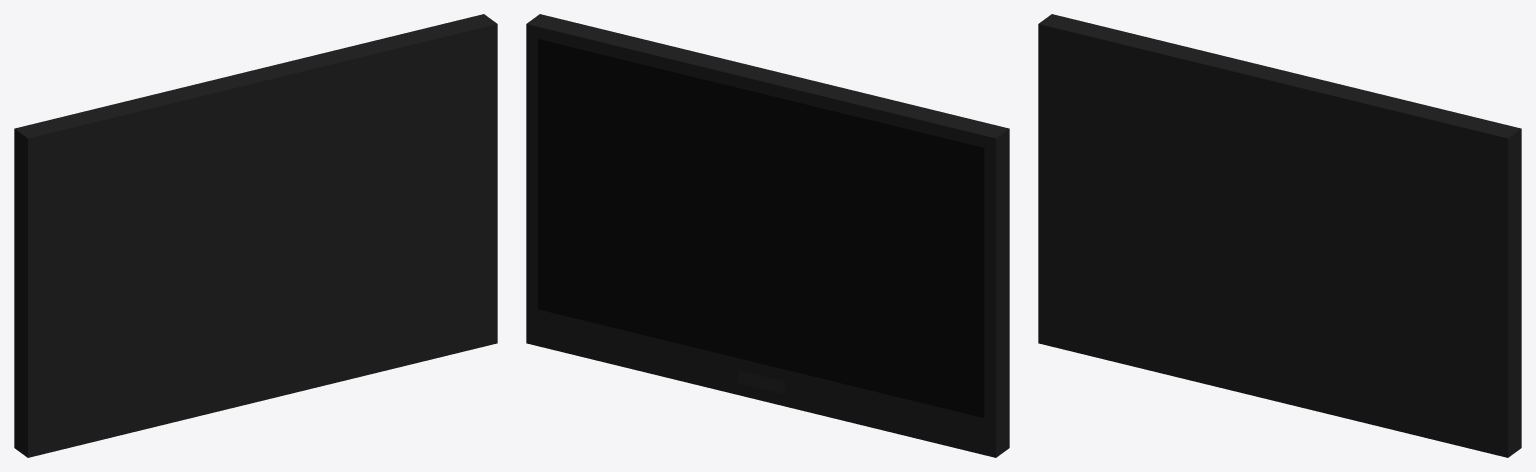
Rendered from tv_wall_01.glb.
3 renders of one model, left to right at view 1: azimuth 30°, elevation 25°; view 2: azimuth 150°, elevation 25°; view 3: azimuth 330°, elevation 25°, orthographic.
Visible parts, largest first — view 1: Untitled.001; view 2: Untitled, Untitled.001; view 3: Untitled.001.
Part boxes in pixels (box(x1,y1,x2,y2)): Untitled.001: box(14, 14, 497, 457); Untitled: box(538, 39, 984, 417); Untitled.001: box(526, 14, 1009, 457); Untitled.001: box(1038, 14, 1521, 457).
Size of the model in its own units: 1.2 by 0.78 by 0.06.
Materials: 2 (2 with a texture image).
